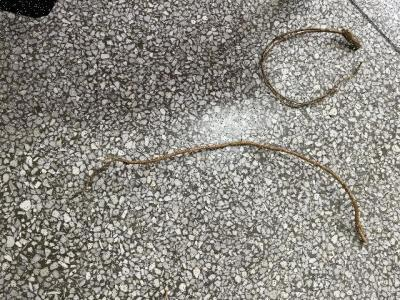Root: (73, 140, 365, 242), (259, 28, 361, 107)
